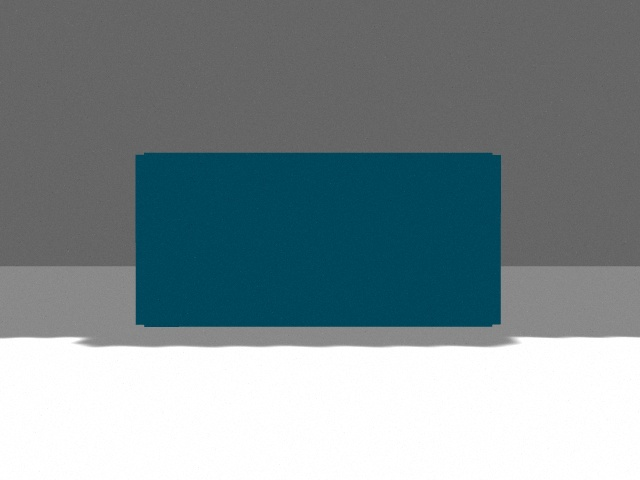blue_drop_zone: (135, 153, 501, 327)
